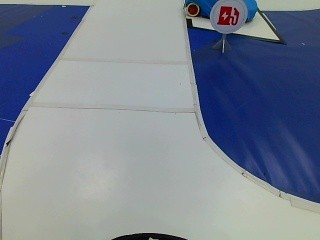battery: (213, 0, 248, 31)
